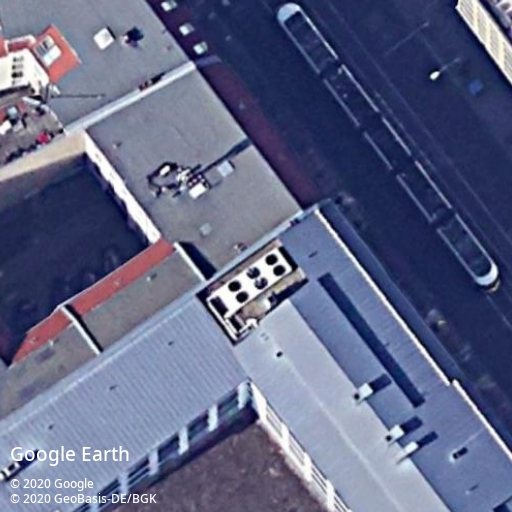Chiller: (211, 247, 292, 318)
